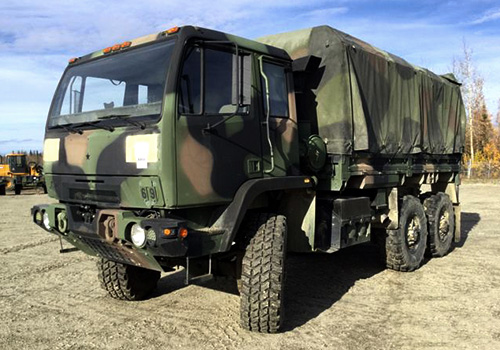truck: (41, 23, 469, 331)
